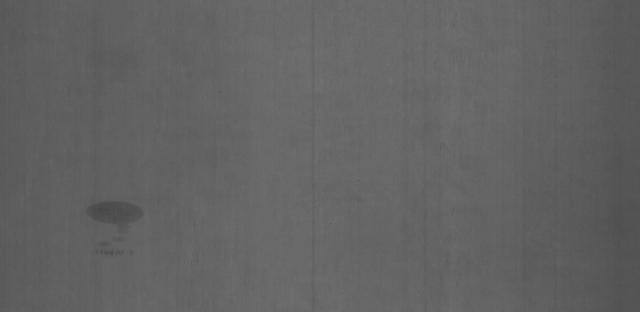oil_spot: (82, 193, 150, 257)
